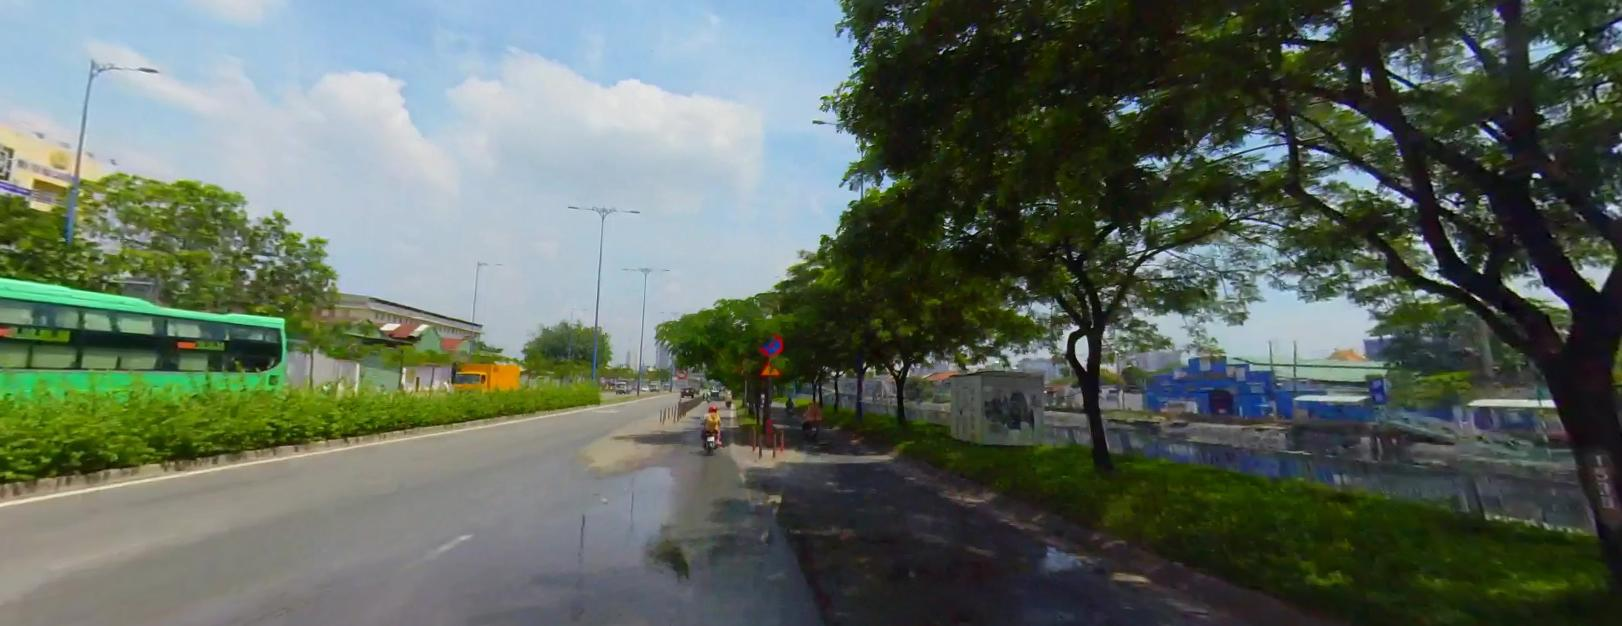Cam con lai: (674, 363, 687, 376)
Cam dung va do: (758, 331, 783, 354)
Nguy hiem: (758, 356, 782, 375)
